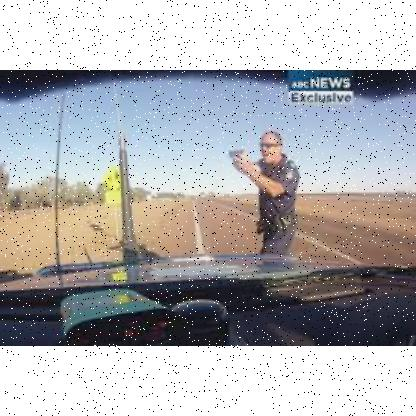gun: (227, 144, 243, 166)
